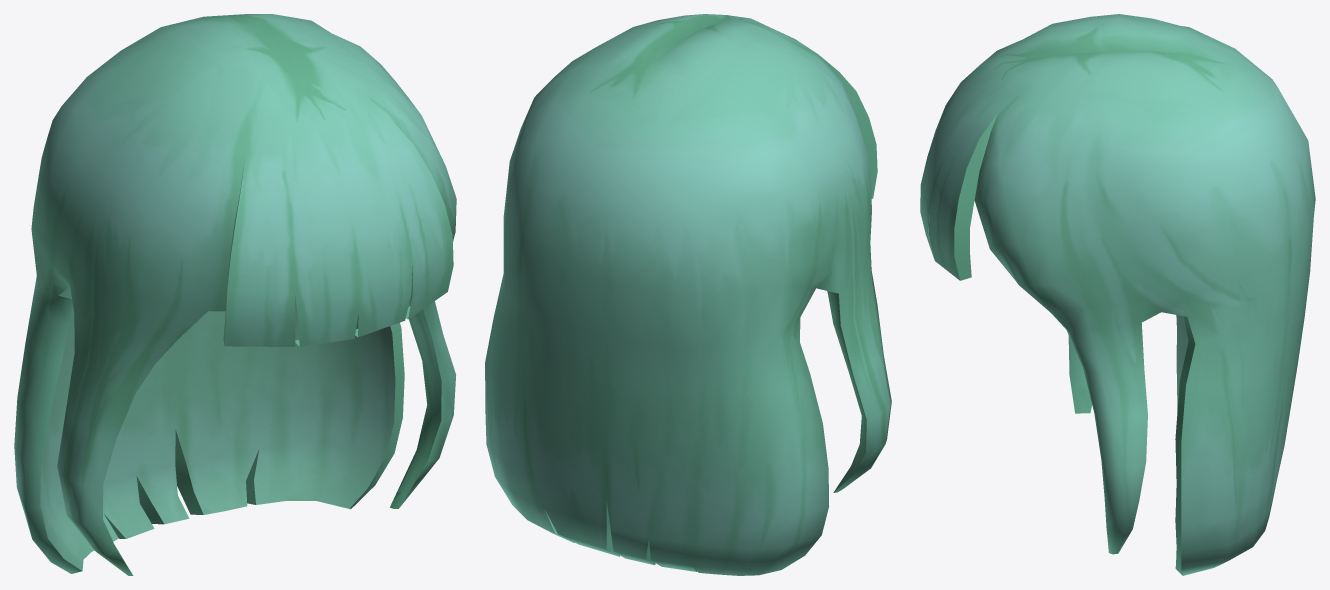
Rendered from girl_hair0.FBX.
The picture shows the model from 3 angles, left to right: view 1: azimuth 30°, elevation 25°; view 2: azimuth 150°, elevation 25°; view 3: azimuth 270°, elevation 25°; orthographic projection. The views are drawn at different scales.
Parts seen in each view (by area): view 1: girl_hair05; view 2: girl_hair05; view 3: girl_hair05.
Part boxes in pixels (left/top/right/bottom): girl_hair05: left=14, top=14, right=456, bottom=575; girl_hair05: left=485, top=14, right=891, bottom=575; girl_hair05: left=920, top=14, right=1315, bottom=575.
Size of the model in its own units: 56.4 by 71.92 by 53.3.
Materials: 1 (1 with a texture image).
